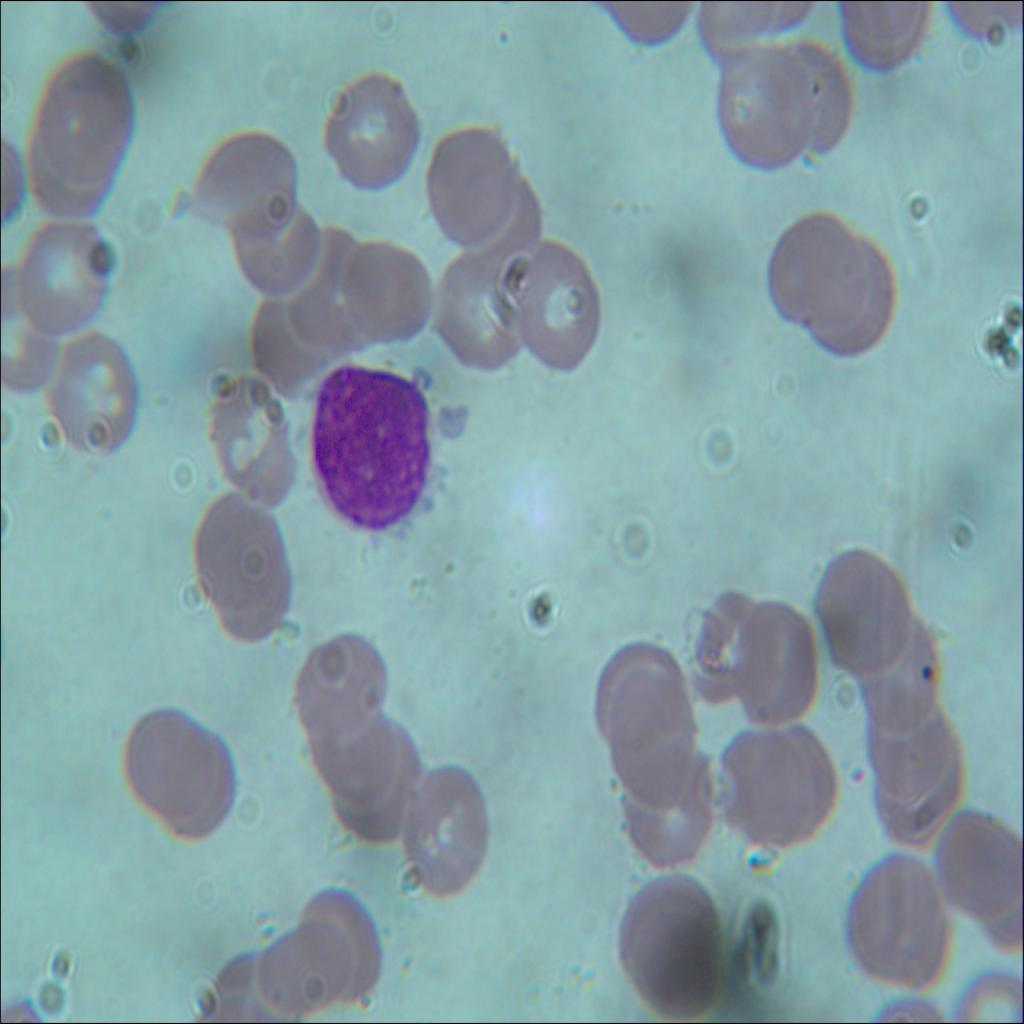Eritrosit: (848, 844, 953, 992), (190, 504, 298, 641), (718, 31, 818, 175), (611, 874, 721, 1004), (43, 322, 139, 464), (721, 731, 831, 850), (202, 372, 302, 500), (406, 764, 496, 906), (31, 56, 135, 177), (770, 207, 866, 334), (514, 242, 602, 375), (616, 752, 718, 864), (426, 125, 518, 247), (810, 238, 898, 361), (819, 550, 908, 668), (334, 730, 426, 844), (296, 881, 381, 1002), (284, 228, 363, 358), (606, 671, 686, 799), (16, 219, 113, 324), (328, 74, 414, 192), (863, 610, 943, 735), (0, 261, 70, 402), (251, 920, 351, 1018), (124, 705, 215, 811), (733, 594, 810, 719), (861, 698, 956, 799), (936, 808, 1023, 918), (196, 131, 294, 228), (340, 241, 430, 344), (431, 252, 516, 360), (778, 40, 856, 157), (156, 732, 241, 838), (235, 191, 322, 294), (303, 702, 395, 799), (26, 114, 108, 218), (249, 292, 336, 390), (876, 752, 970, 842), (298, 637, 386, 725), (690, 597, 764, 701)
Limfoblast: (309, 360, 430, 538)
Platelet: (912, 654, 950, 692), (849, 757, 866, 785)
